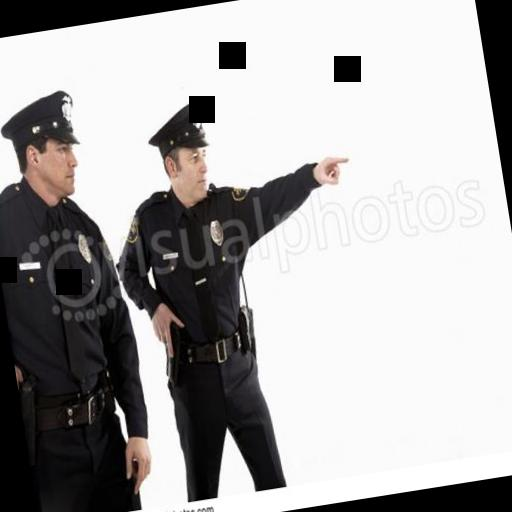Handgun: (153, 317, 188, 391)
